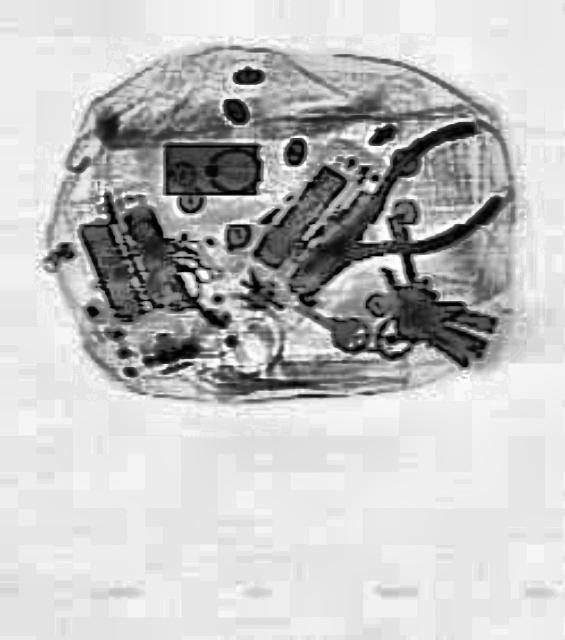Pliers: (265, 104, 519, 330)
